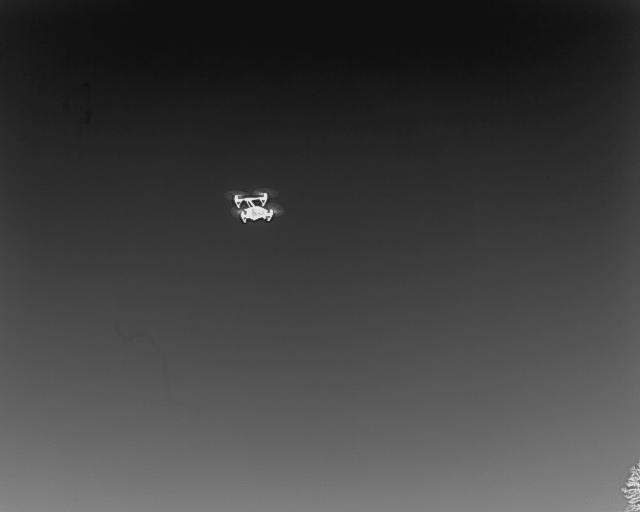drone: (226, 189, 282, 232)
